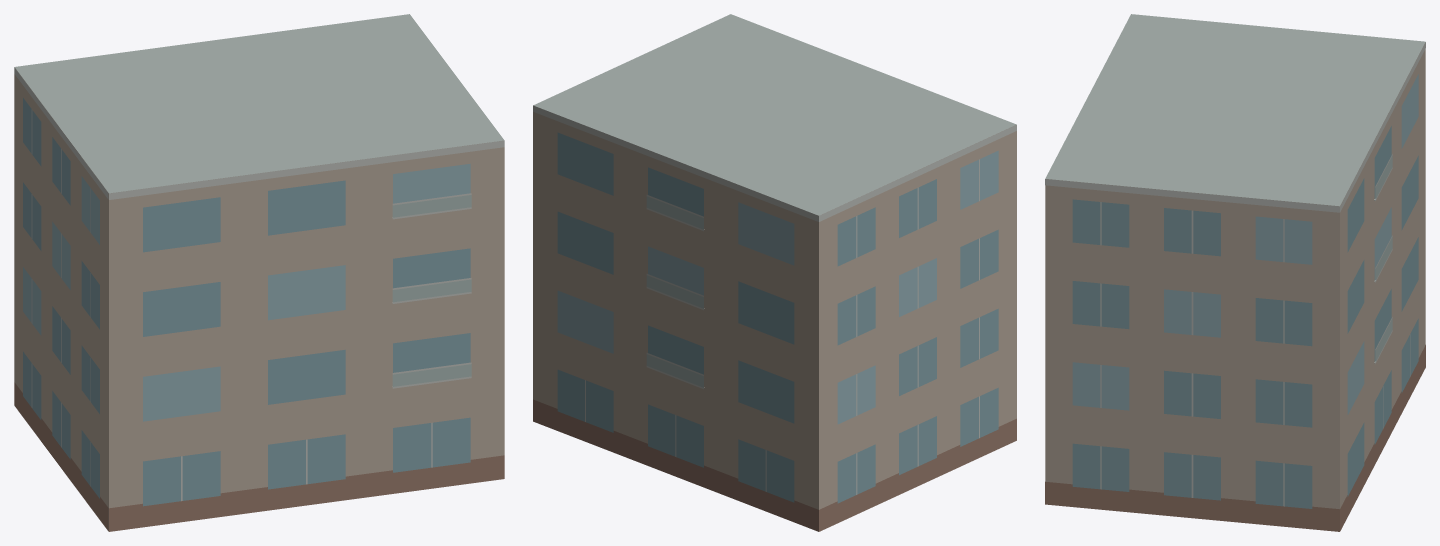
The model's file is residential-acdaf9c1-e64a-4d70-99da-e9eb30291b12.glb.
The picture shows the model from 3 angles, left to right: view 1: azimuth 30°, elevation 25°; view 2: azimuth 150°, elevation 25°; view 3: azimuth 270°, elevation 25°; orthographic projection. The views are drawn at different scales.
Parts seen in each view (by area): view 1: residential-acdaf9c1-e64a-4d70-99da-e9eb30291b12.tmp; view 2: residential-acdaf9c1-e64a-4d70-99da-e9eb30291b12.tmp; view 3: residential-acdaf9c1-e64a-4d70-99da-e9eb30291b12.tmp.
Part boxes in pixels (left/top/right/bottom): residential-acdaf9c1-e64a-4d70-99da-e9eb30291b12.tmp: left=14, top=14, right=504, bottom=531; residential-acdaf9c1-e64a-4d70-99da-e9eb30291b12.tmp: left=533, top=14, right=1016, bottom=531; residential-acdaf9c1-e64a-4d70-99da-e9eb30291b12.tmp: left=1045, top=14, right=1425, bottom=531.
Bounding box in the file's own units: 15.46 × 12.2 × 12.94.
